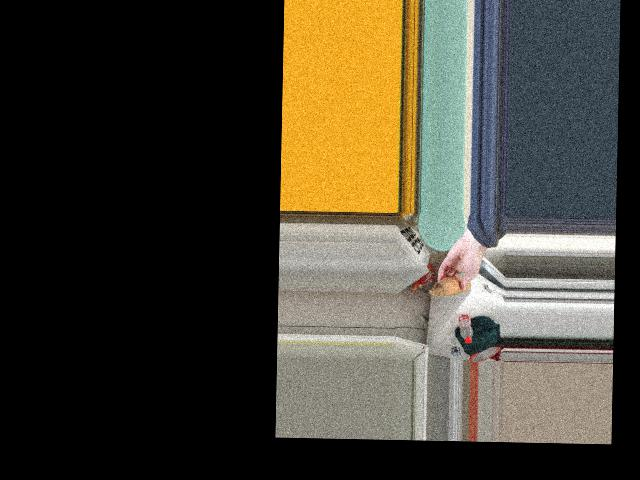sweet_potato: (437, 277, 468, 296)
